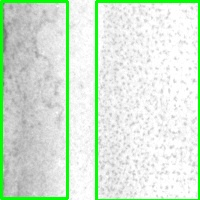pitted_surface: (96, 1, 199, 200), (1, 1, 67, 198)
